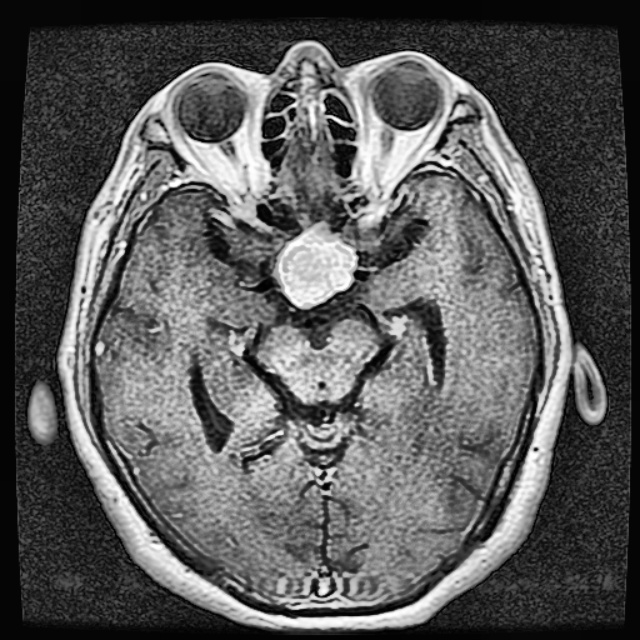Glioma: (275, 223, 359, 308)
